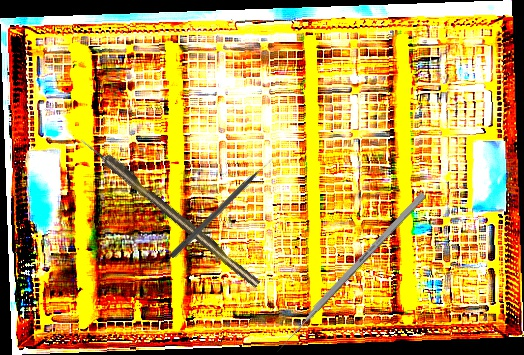Hook Surgical: (78, 133, 262, 290)
Pusher: (273, 191, 427, 355), (169, 156, 276, 260)
